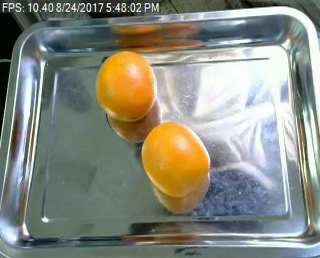Orange: (141, 121, 211, 197), (95, 50, 156, 121)
